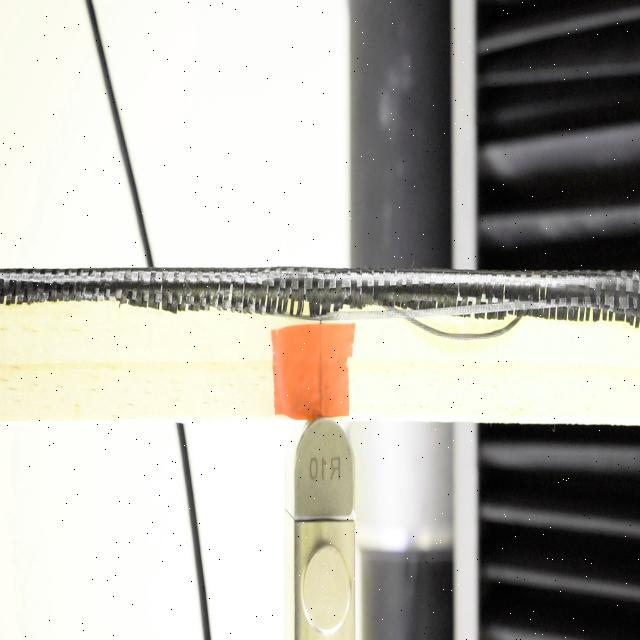wood: (0, 270, 636, 425)
